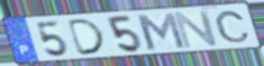5: (103, 13, 145, 54), (33, 20, 69, 58)
C: (213, 10, 252, 44)
D: (66, 17, 108, 57)
M: (133, 11, 188, 51)
N: (172, 8, 221, 50)
